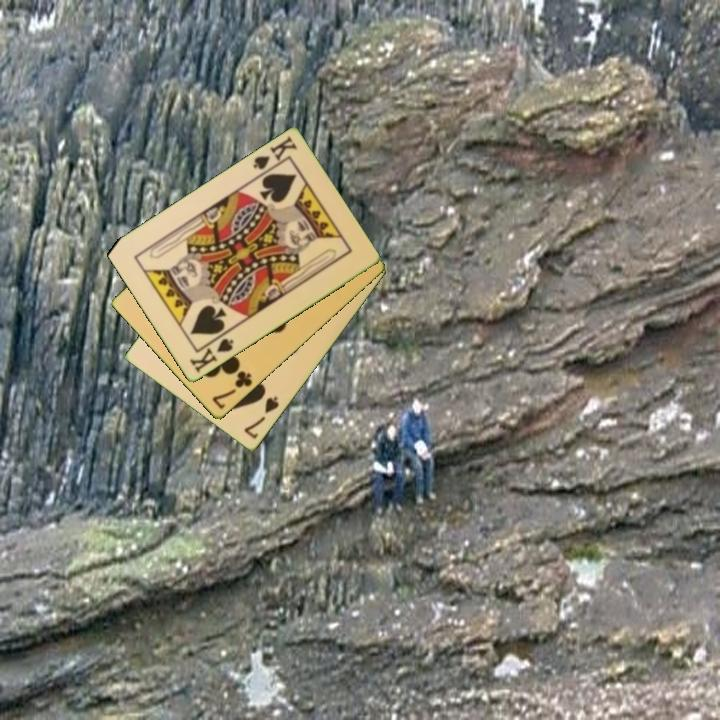7c: (208, 367, 255, 413)
7s: (241, 393, 282, 442)
Ks: (249, 133, 300, 180), (186, 330, 237, 376)
